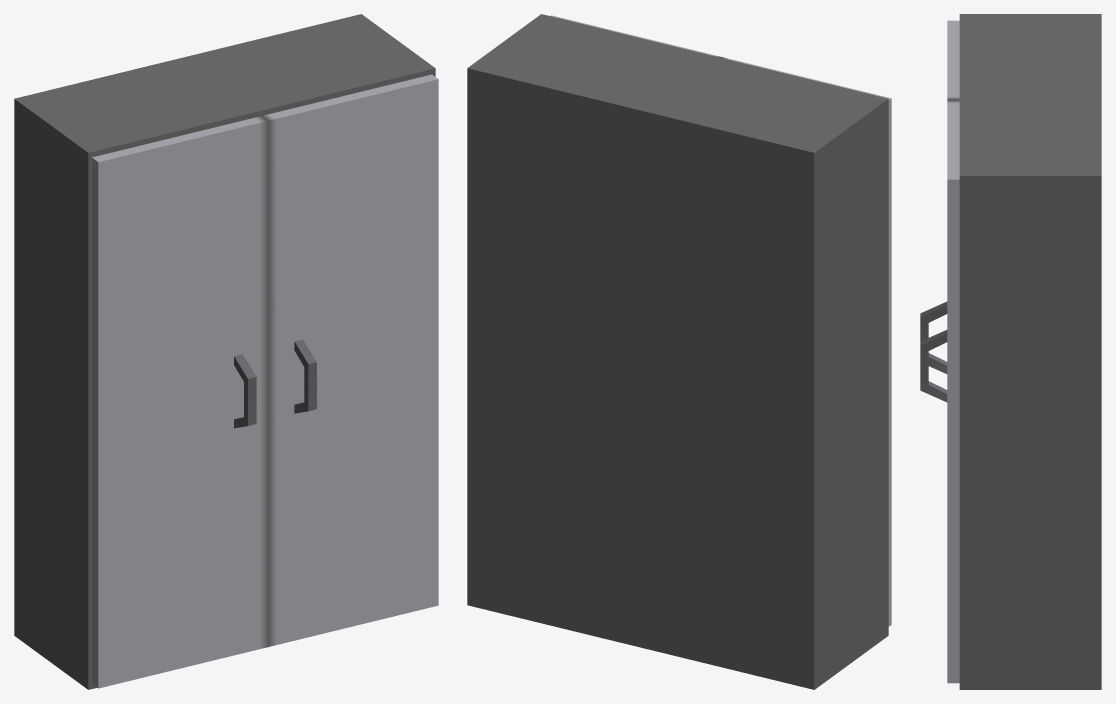
The model's file is WardRobe_2A.fbx.
3 renders of one model, left to right at view 1: azimuth 30°, elevation 25°; view 2: azimuth 150°, elevation 25°; view 3: azimuth 270°, elevation 25°, orthographic. The views are drawn at different scales.
Parts seen in each view (by area): view 1: polySurface954; view 2: polySurface954; view 3: polySurface954.
Boxes of the visible parts, x1,y1,x2,y2 form: polySurface954: (14, 14, 438, 689); polySurface954: (467, 14, 891, 689); polySurface954: (920, 14, 1101, 689).
Size of the model in its own units: 2.3 by 3.4 by 1.09.
